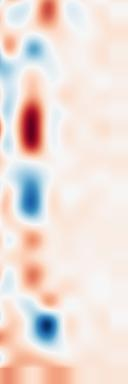filament: (12, 93, 59, 165)
